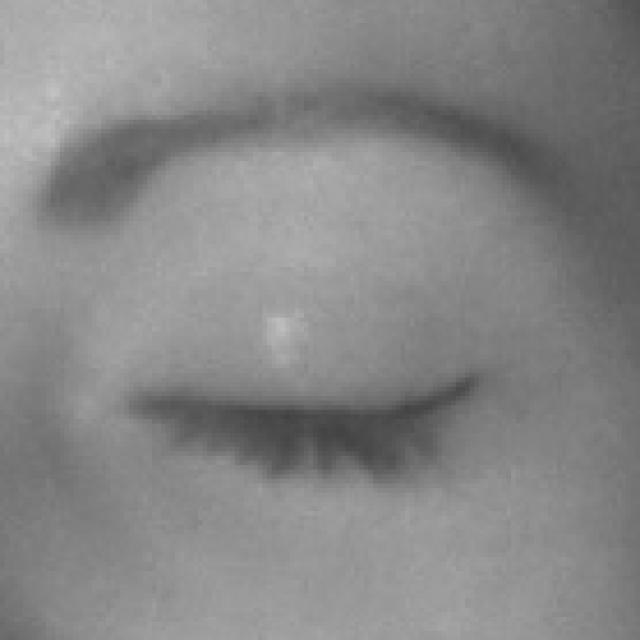close: (37, 80, 640, 556)
